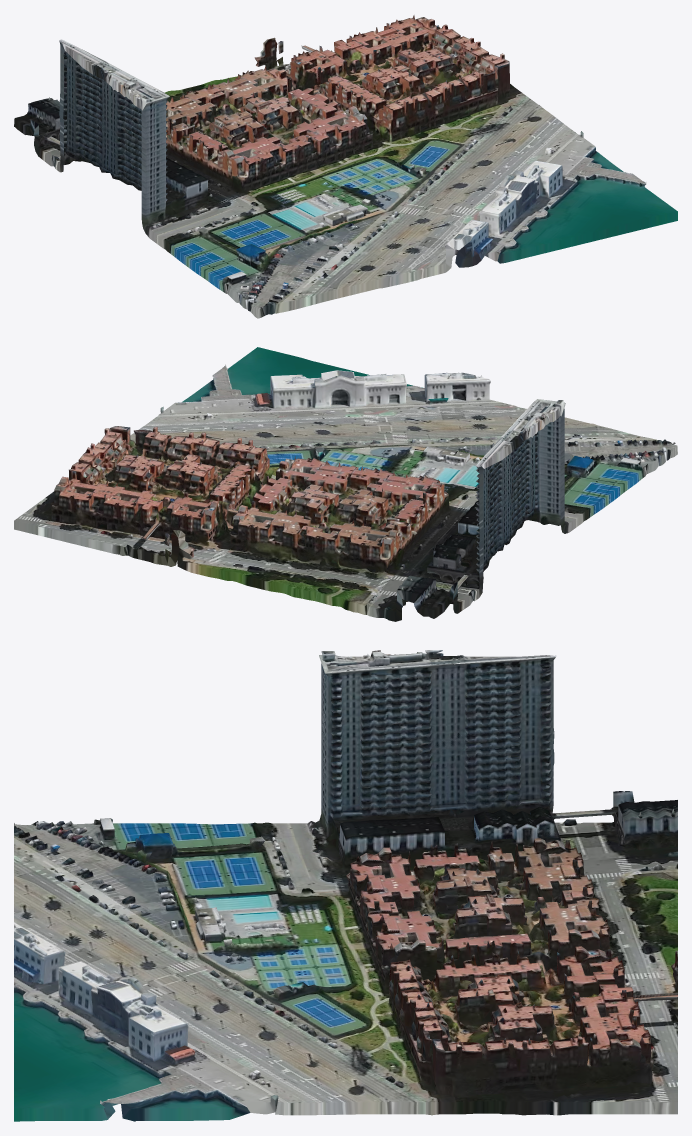
File: z17-20972-50651-h0-yup-uvflip-v3-world.glb
3 renders of one model, top to bottom at view 1: azimuth 30°, elevation 25°; view 2: azimuth 150°, elevation 25°; view 3: azimuth 270°, elevation 25°, orthographic. The views are drawn at different scales.
Bounding box in the file's own units: 242 × 77.44 × 243.
Materials: 1 (1 with a texture image).
